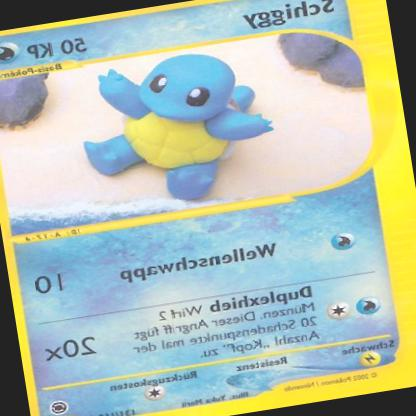Squirtle: (60, 38, 286, 221)
